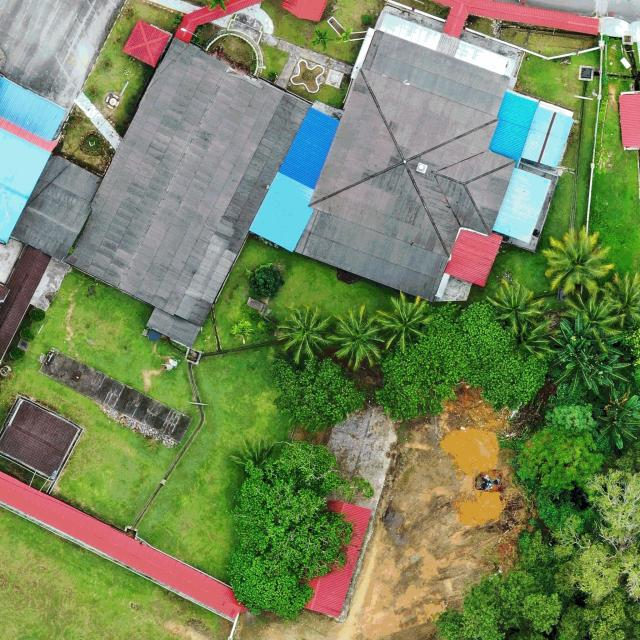Tree: (228, 439, 374, 620), (374, 300, 552, 420), (548, 467, 640, 605), (434, 568, 562, 640), (272, 356, 368, 436), (515, 424, 606, 491), (542, 227, 613, 297), (328, 304, 388, 370), (272, 302, 335, 364), (374, 290, 434, 352), (483, 278, 548, 334), (562, 289, 623, 343), (595, 392, 640, 449), (230, 431, 282, 478), (600, 271, 640, 329), (552, 311, 600, 355), (582, 351, 630, 391), (245, 262, 286, 302)
